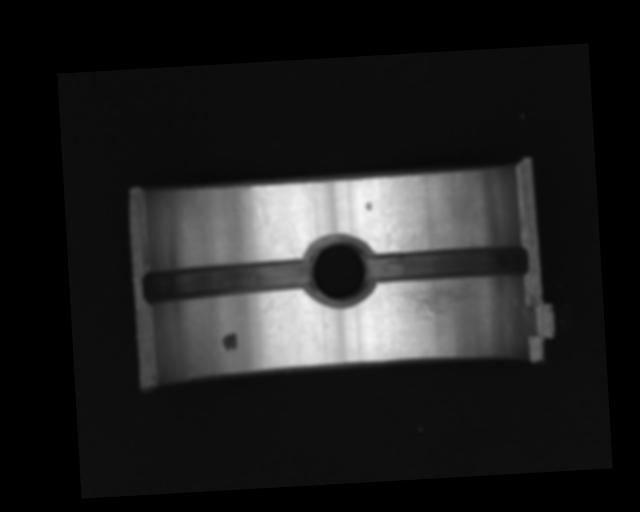blot: (221, 331, 238, 352)
bruise: (365, 200, 373, 211)
gap: (143, 258, 314, 303), (365, 244, 529, 284)
hole: (307, 233, 375, 308)
nick: (256, 206, 274, 262)
scratch: (384, 282, 486, 322)
